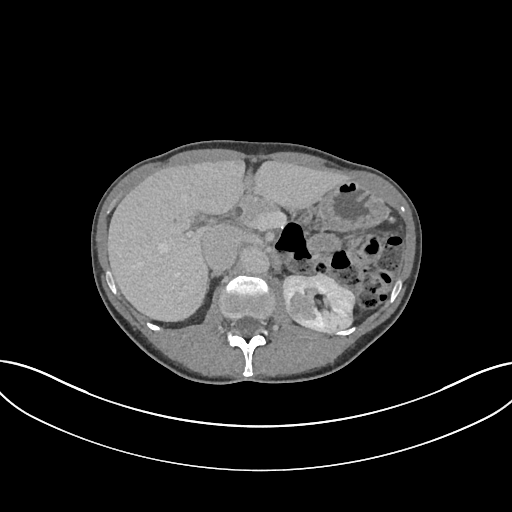Lesion: (285, 292, 319, 324)
